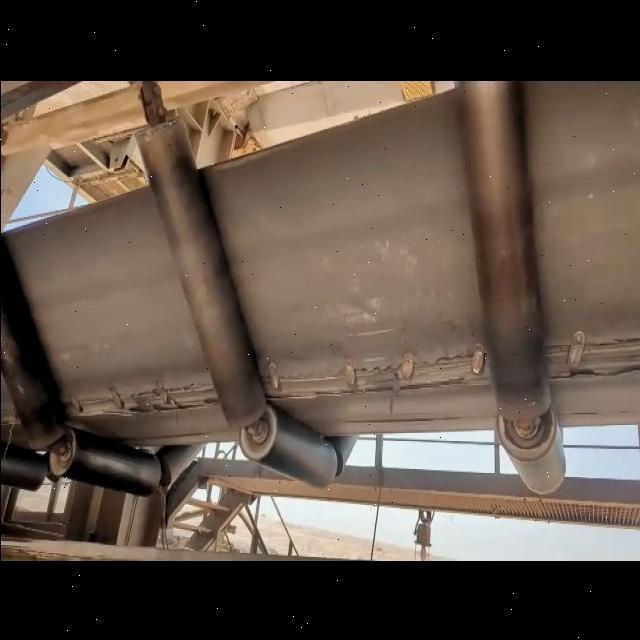Tear: (260, 337, 495, 407), (60, 374, 222, 422), (539, 330, 639, 389)
